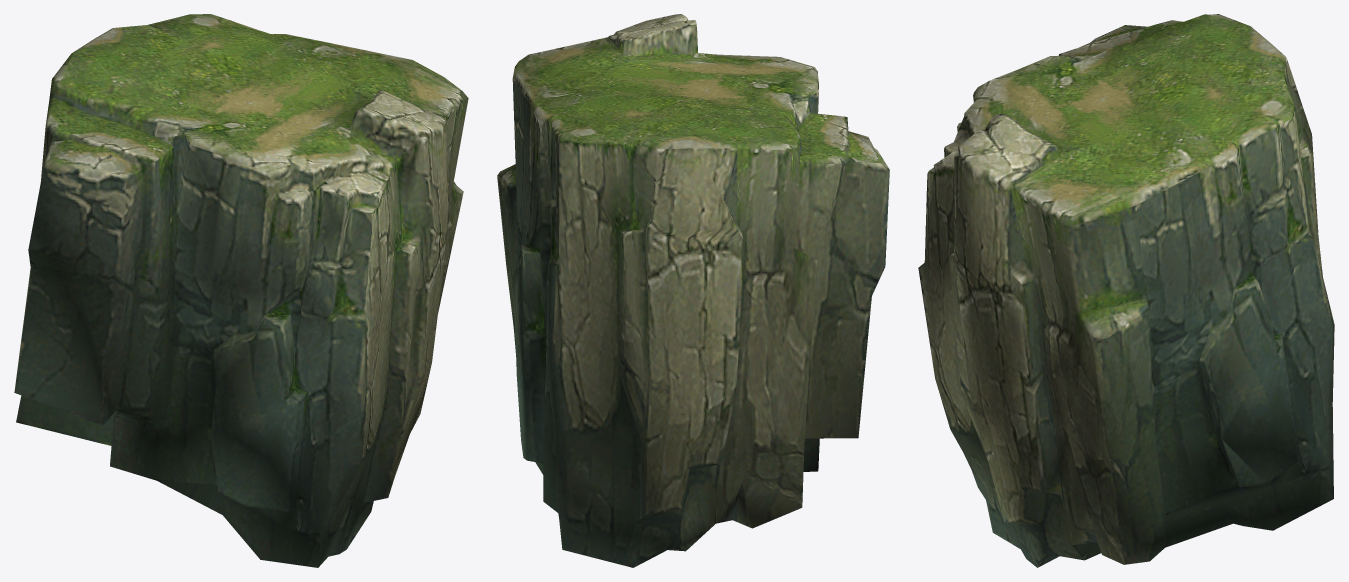
File: 4004_Item_shitou_7.FBX
The picture shows the model from 3 angles, left to right: view 1: azimuth 30°, elevation 25°; view 2: azimuth 150°, elevation 25°; view 3: azimuth 270°, elevation 25°; orthographic projection.
Visible parts, largest first — view 1: 4004_Item_shitou_7; view 2: 4004_Item_shitou_7; view 3: 4004_Item_shitou_7.
Boxes of the visible parts, bbox=[...] form: 4004_Item_shitou_7: bbox=[14, 14, 468, 567]; 4004_Item_shitou_7: bbox=[497, 14, 889, 567]; 4004_Item_shitou_7: bbox=[918, 14, 1334, 567].
Size of the model in its own units: 1128 by 1212 by 990.
